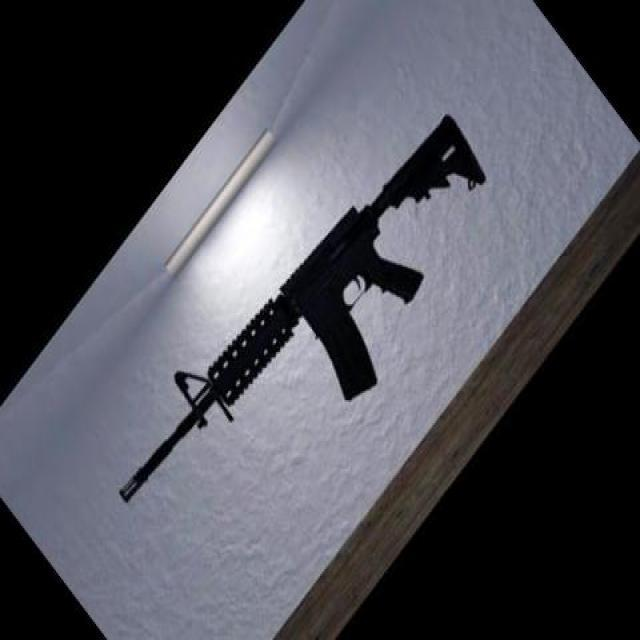weapon: (119, 114, 486, 506)
